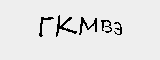В: (99, 19, 115, 34)
Г: (36, 15, 54, 39)
К: (54, 14, 78, 38)
М: (76, 15, 98, 34)
Э: (111, 19, 125, 39)
